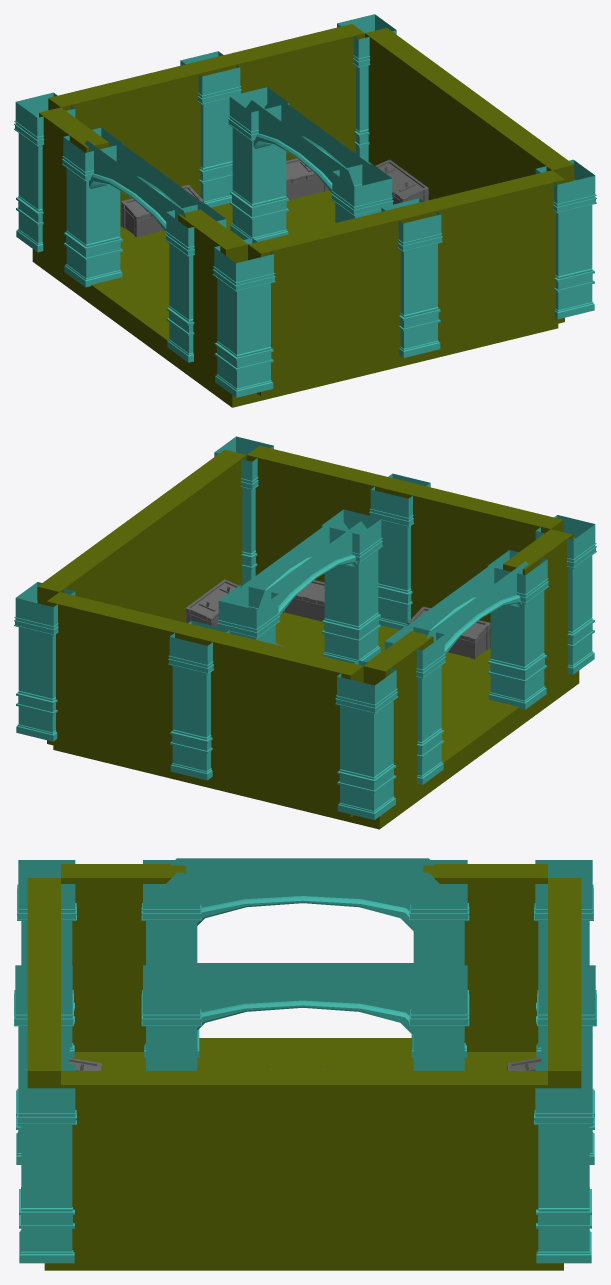
The model's file is Armory.fbx.
3 renders of one model, top to bottom at view 1: azimuth 30°, elevation 25°; view 2: azimuth 150°, elevation 25°; view 3: azimuth 270°, elevation 25°, orthographic. The views are drawn at different scales.
Visible parts, largest first — view 1: Wall23, Wall24, Wall25, Floor, Column24, Column27, Column25, Column32, Column30, Column31, Arch1, Wall (+9 smaller); view 2: Wall24, Wall23, Wall25, Floor, Column26, Column29, Column, Column31, Column28, Column32, Arch1, Wall22 (+9 smaller); view 3: Wall25, Wall22, Wall, Arch1, Arch, Column28, Column30, Floor, Wall24, Wall23, Column27, Column29 (+6 smaller).
Boxes of the visible parts, left/top/right/bottom form: Wall23: left=248, top=170, right=564, bottom=395; Wall24: left=48, top=24, right=364, bottom=226; Wall25: left=365, top=28, right=574, bottom=199; Floor: left=32, top=190, right=558, bottom=407; Column24: left=212, top=238, right=275, bottom=397; Column27: left=228, top=87, right=289, bottom=241; Column25: left=62, top=127, right=123, bottom=287; Column32: left=381, top=198, right=442, bottom=357; Column30: left=535, top=159, right=596, bottom=319; Column31: left=180, top=51, right=241, bottom=207; Arch1: left=246, top=94, right=376, bottom=192; Wall: left=178, top=209, right=247, bottom=375; Wall24: left=47, top=592, right=363, bottom=817; Wall23: left=246, top=445, right=563, bottom=647; Wall25: left=37, top=449, right=246, bottom=622; Floor: left=53, top=612, right=579, bottom=829; Column26: left=335, top=660, right=398, bottom=819; Column29: left=321, top=509, right=382, bottom=663; Column: left=487, top=550, right=548, bottom=709; Column31: left=168, top=620, right=229, bottom=780; Column28: left=14, top=582, right=75, bottom=741; Column32: left=369, top=473, right=430, bottom=629; Arch1: left=235, top=515, right=366, bottom=615; Wall22: left=363, top=631, right=433, bottom=797; Wall25: left=61, top=1071, right=547, bottom=1270; Wall22: left=423, top=864, right=547, bottom=1051; Wall: left=61, top=864, right=185, bottom=1051; Arch1: left=151, top=963, right=454, bottom=1035; Arch: left=166, top=858, right=439, bottom=930; Column28: left=534, top=1064, right=593, bottom=1263; Column30: left=17, top=1064, right=76, bottom=1263; Floor: left=44, top=1038, right=563, bottom=1270; Wall24: left=548, top=878, right=581, bottom=1088; Wall23: left=27, top=878, right=60, bottom=1088; Column27: left=409, top=965, right=469, bottom=1070; Column29: left=141, top=965, right=201, bottom=1070.
Size of the model in its own units: 16.32 by 6.86 by 17.53.
